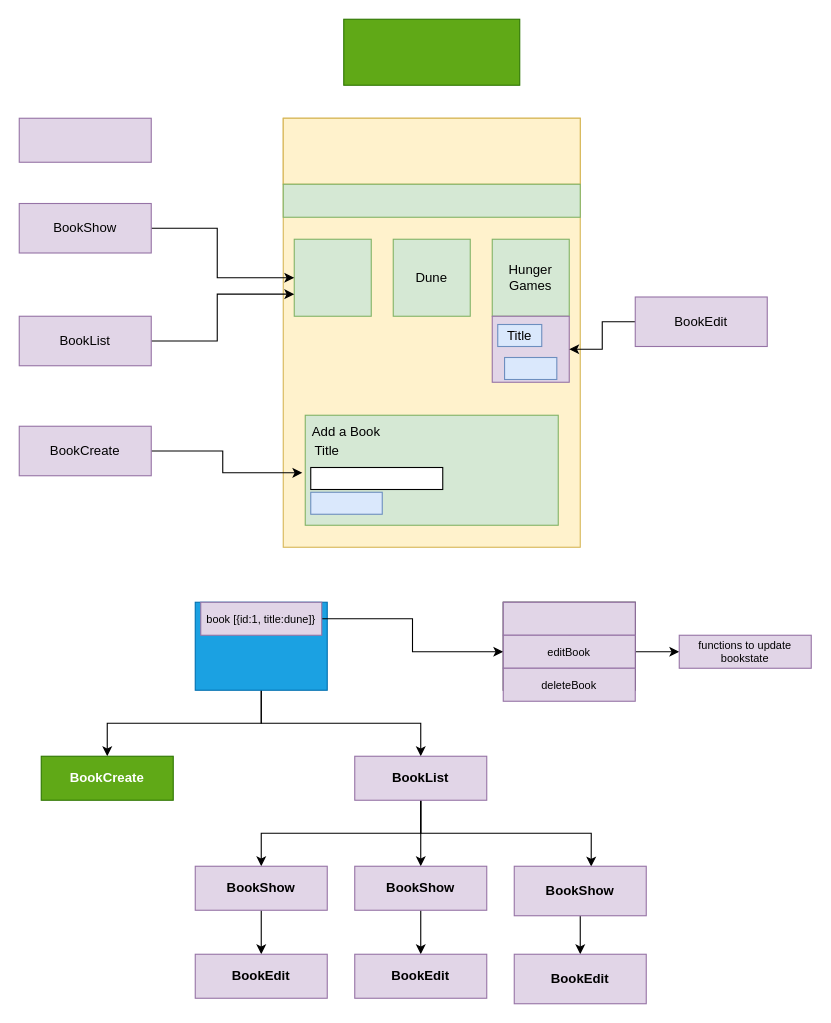
This 831x1023 diagram has some shape labels left out. Each missing label, with the box of its shape:
APP: (194, 601, 327, 690)
Components: (18, 117, 151, 162)
Forms Tutorial project layout: (343, 18, 520, 85)
handleCreateBook: (502, 601, 635, 635)
Harry Potter: (293, 238, 371, 316)
Reading list: (282, 183, 580, 217)
save: (503, 356, 557, 380)
Submit: (310, 491, 382, 514)
Web page: (282, 117, 580, 184)
